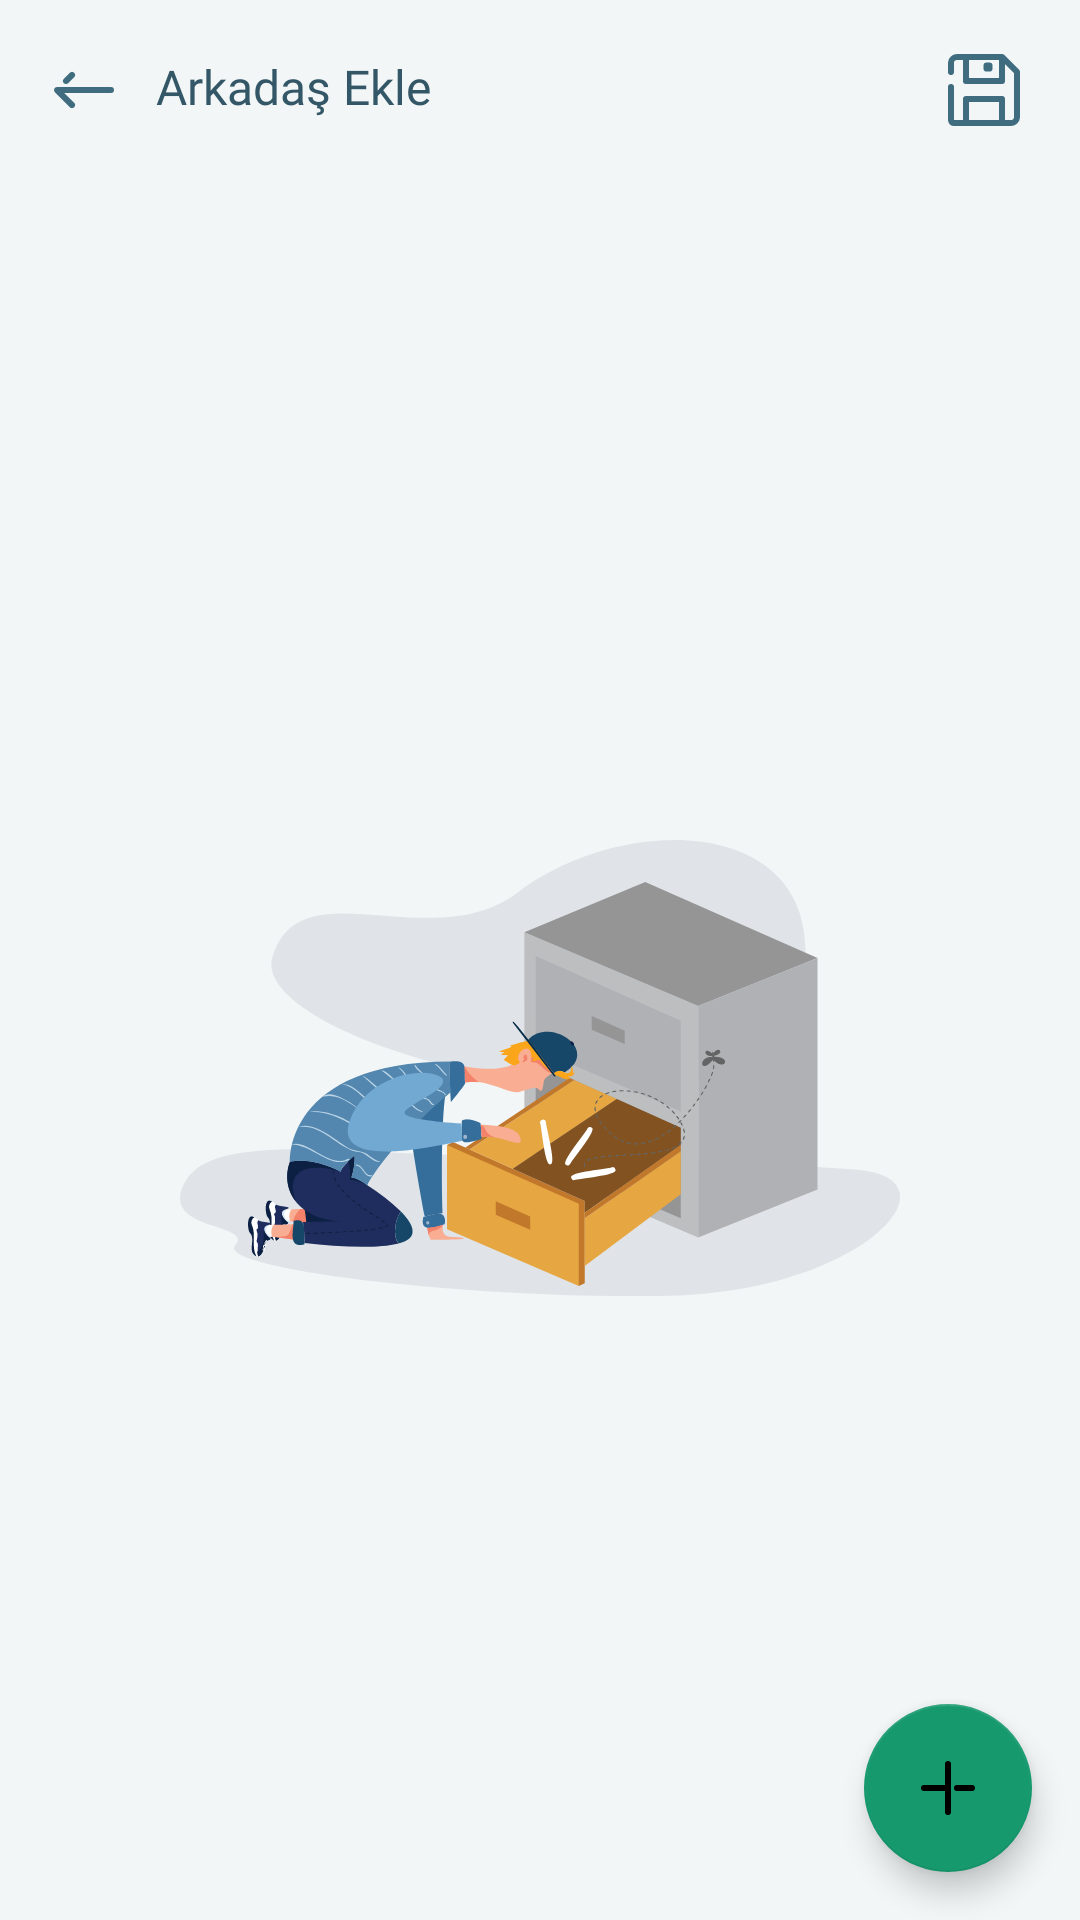

Where to tap for icons on this 1080w x 1920h app screen, as [x,y]:
plus: [948,1788]
save: [984,90]
